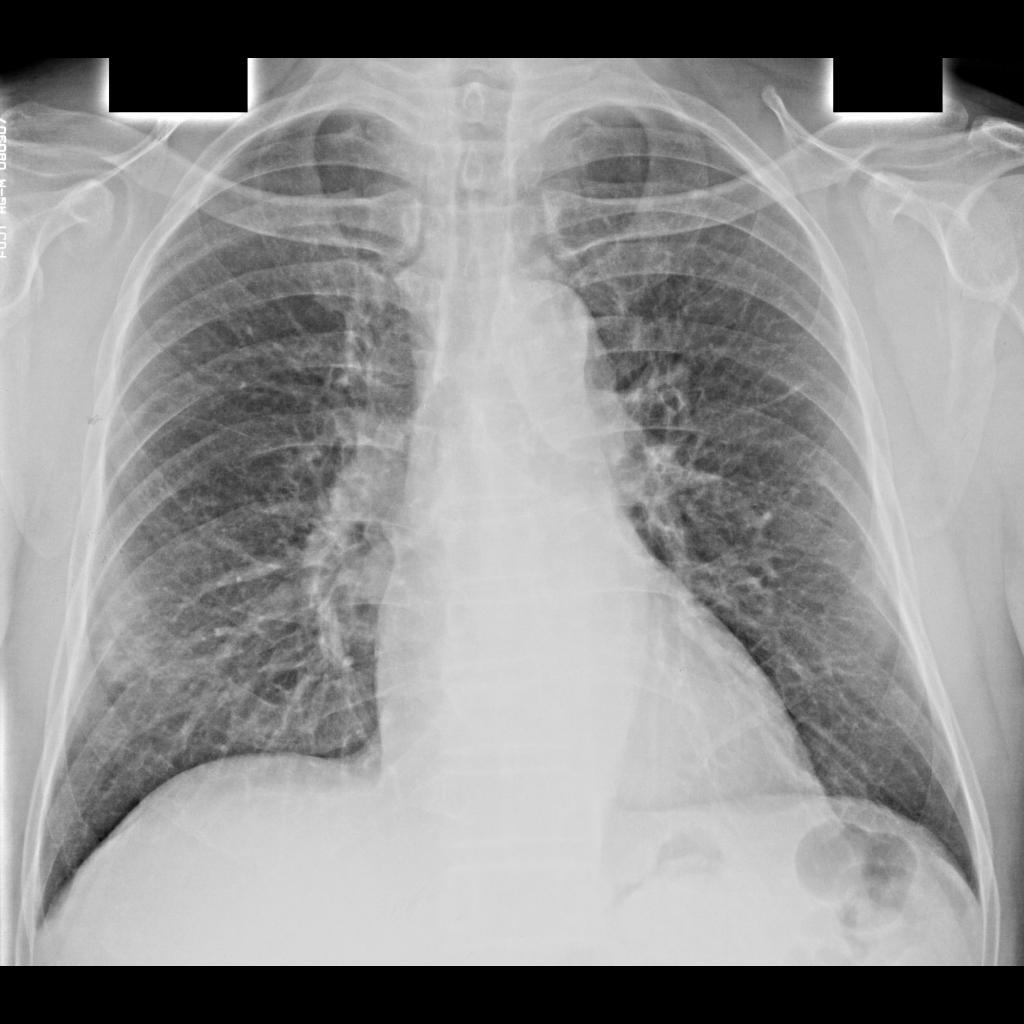Nodule: (100, 620, 155, 675)
